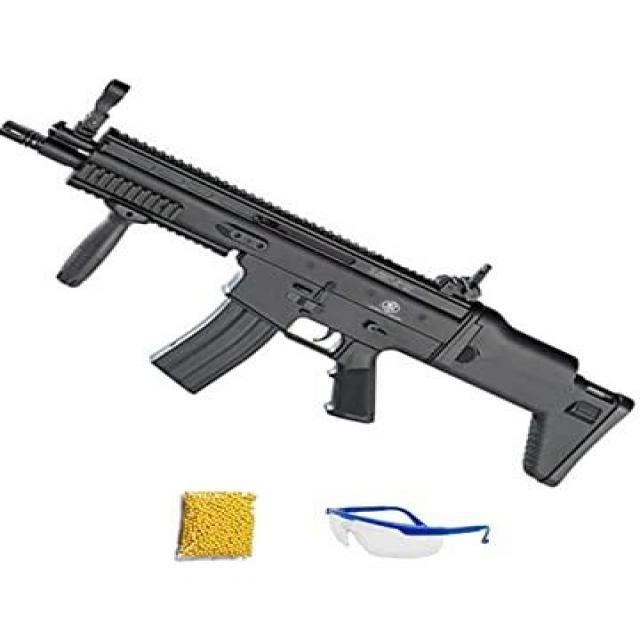weapon: (0, 76, 636, 488)
